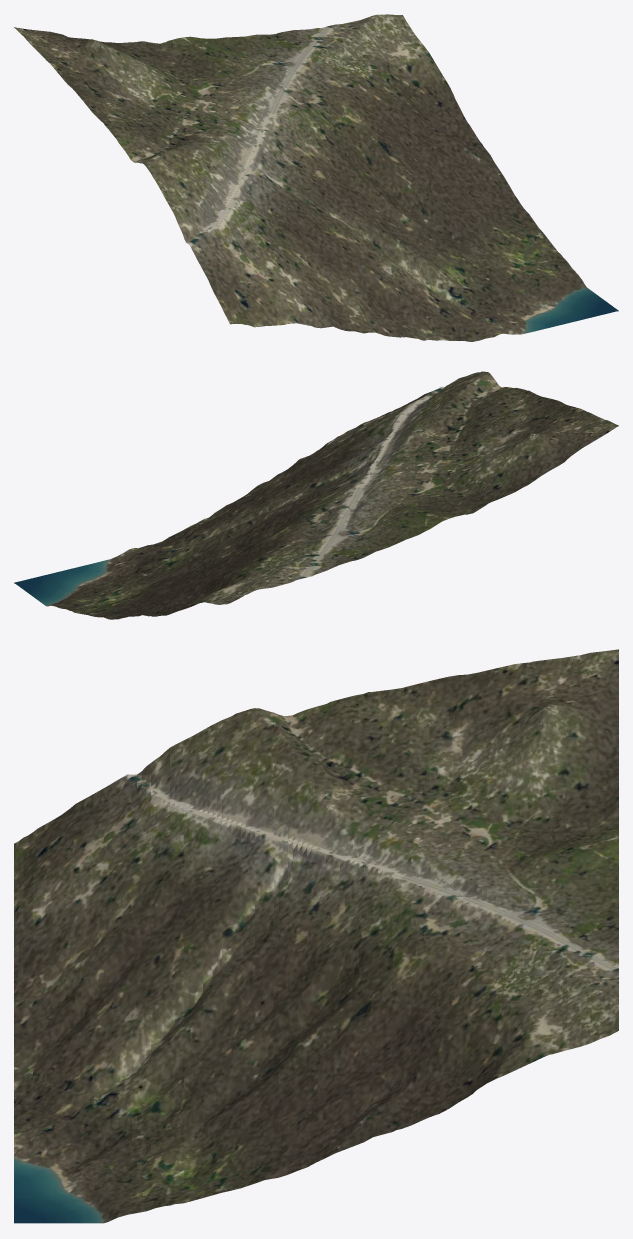
3 views of the same model, one above another, from view 1: azimuth 30°, elevation 25°; view 2: azimuth 210°, elevation 25°; view 3: azimuth 270°, elevation 25° (orthographic). The views are drawn at different scales.
Bounding box in the file's own units: 500 × 272 × 481.
1 material, 1 textured.
